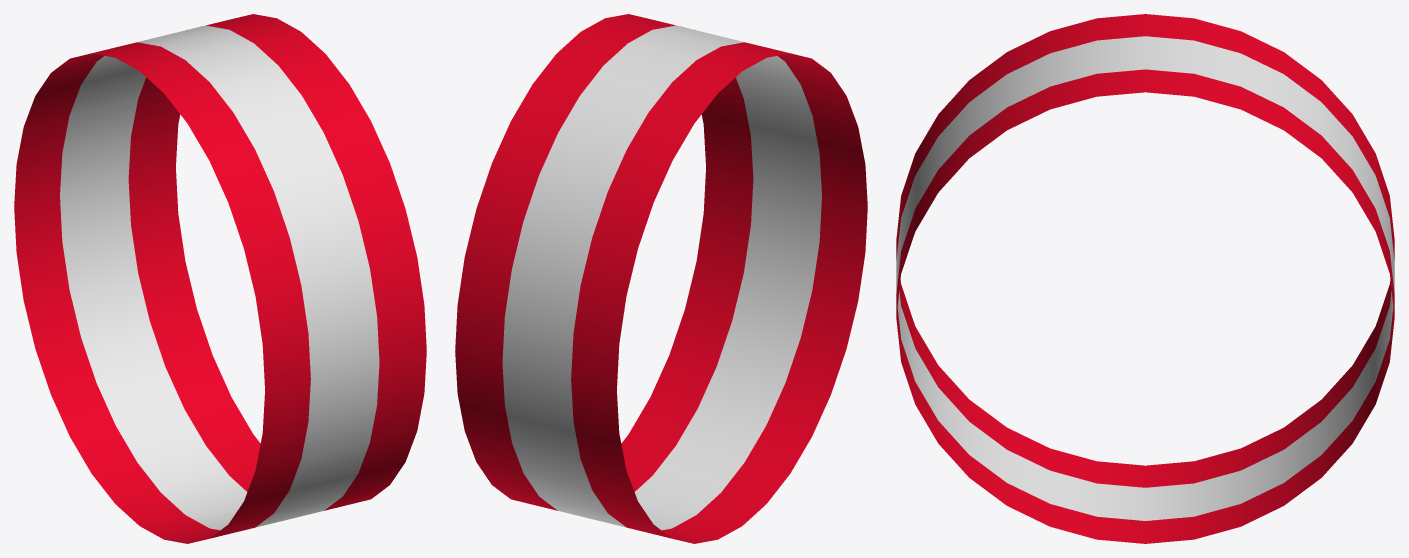
Rendered from Road.glb.
3 renders of one model, left to right at view 1: azimuth 30°, elevation 25°; view 2: azimuth 150°, elevation 25°; view 3: azimuth 270°, elevation 25°, orthographic.
Parts seen in each view (by area): view 1: Road; view 2: Road; view 3: Road.
Part boxes in pixels (left/top/right/bottom): Road: left=14, top=14, right=426, bottom=543; Road: left=455, top=14, right=867, bottom=543; Road: left=896, top=14, right=1394, bottom=543.
Bounding box in the file's own units: 7.44 × 20 × 20.
